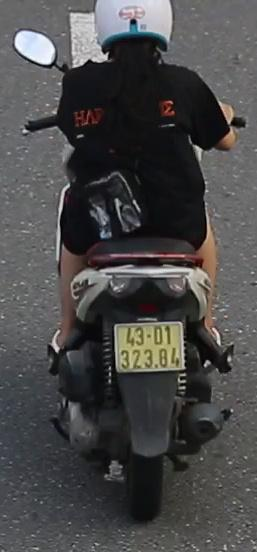LP: (111, 318, 187, 379)
helmet: (92, 0, 176, 67)
